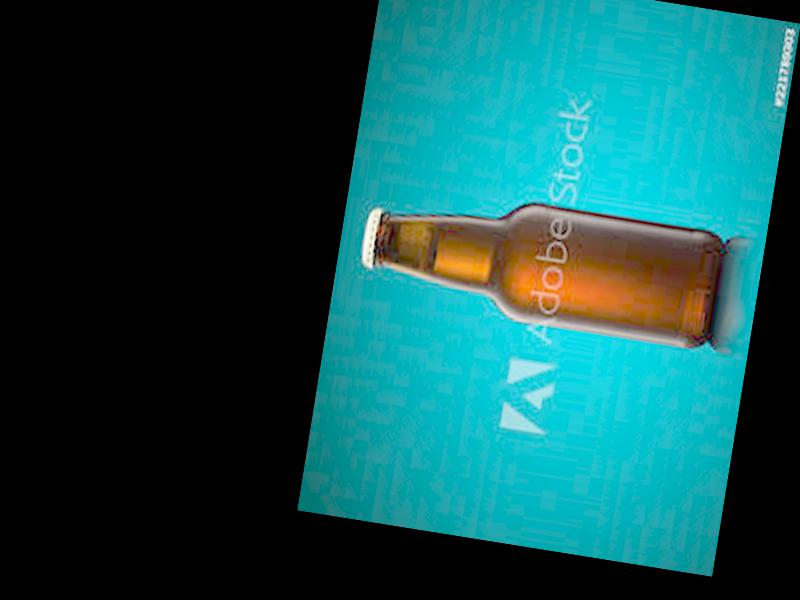Beer: (354, 174, 728, 351)
